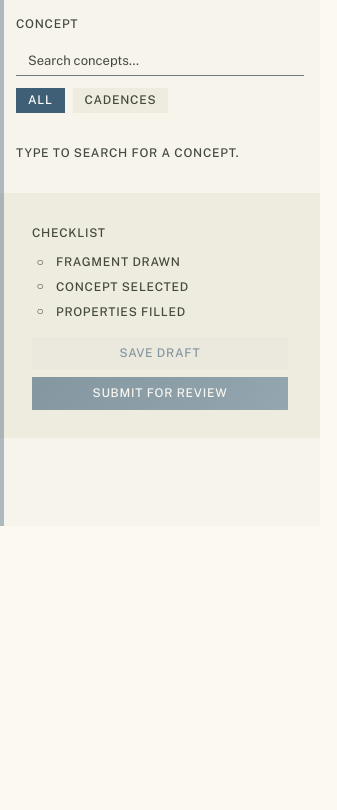
Scenario: FormPanel Step 13 — PropertyForm › renders the Properties section when the concept has schemas
The width and height of the screenshot is (337, 810).
Step 1. Type "perfect" into the search field with test id "concept-search-input" → (160,60), box [16,45,304,76]
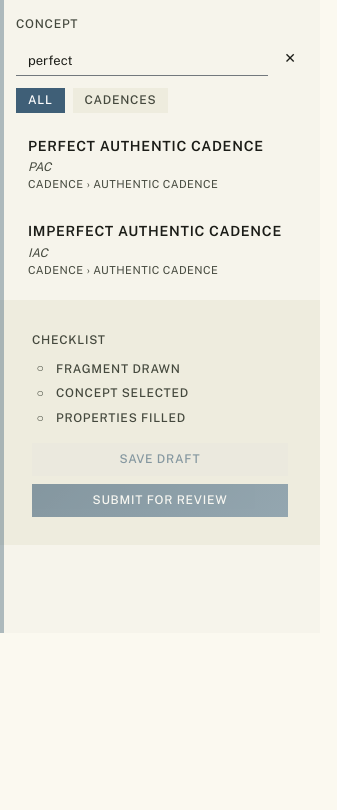
expect the button with test id "concept-card-PerfectAuthenticCadence" is shown: met
Step 2. Click the button with test id "concept-card-PerfectAuthenticCadence" → (146,146), box [16,125,304,202]
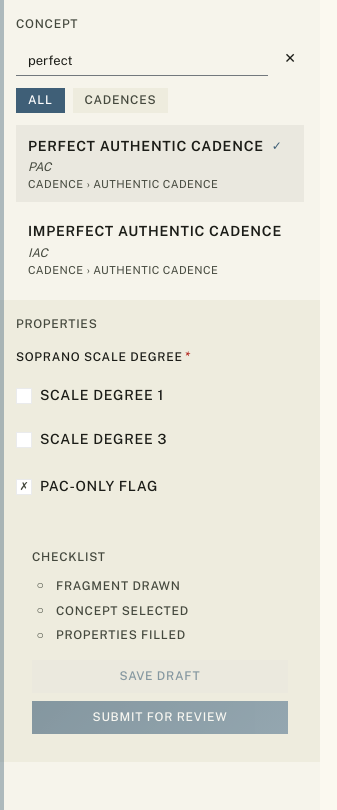
expect the element with test id "property-form" is shown: met, box [16,345,304,505]
